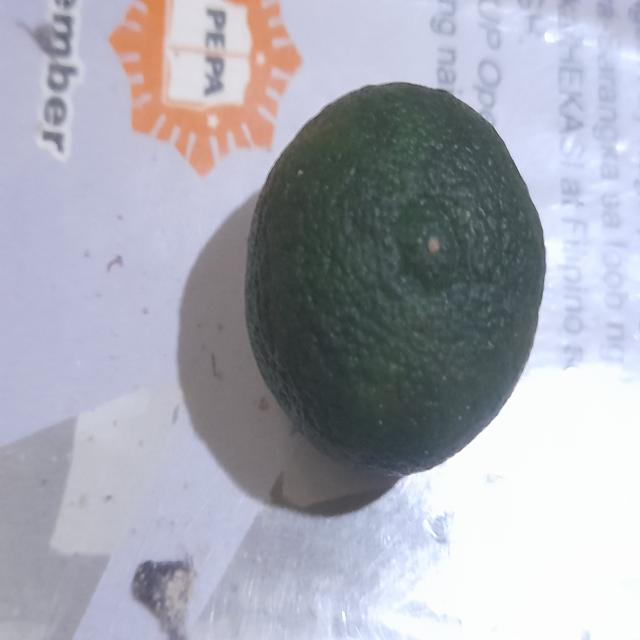heathy: (242, 75, 550, 480)
